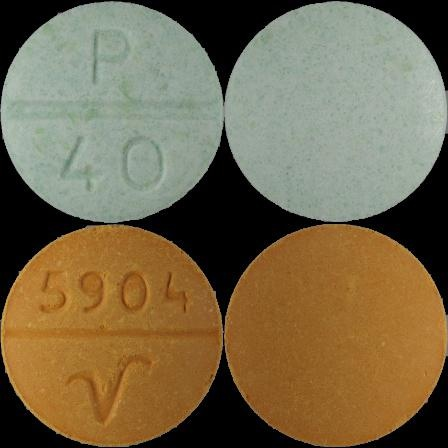10544-285: (0, 0, 224, 224)
